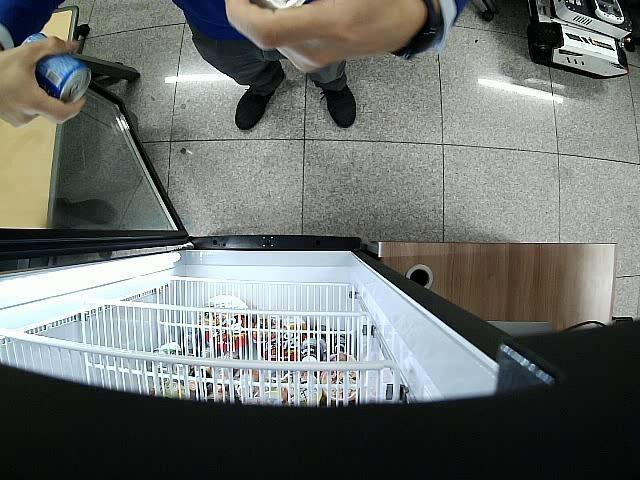15_letsbe: (20, 33, 90, 104)
